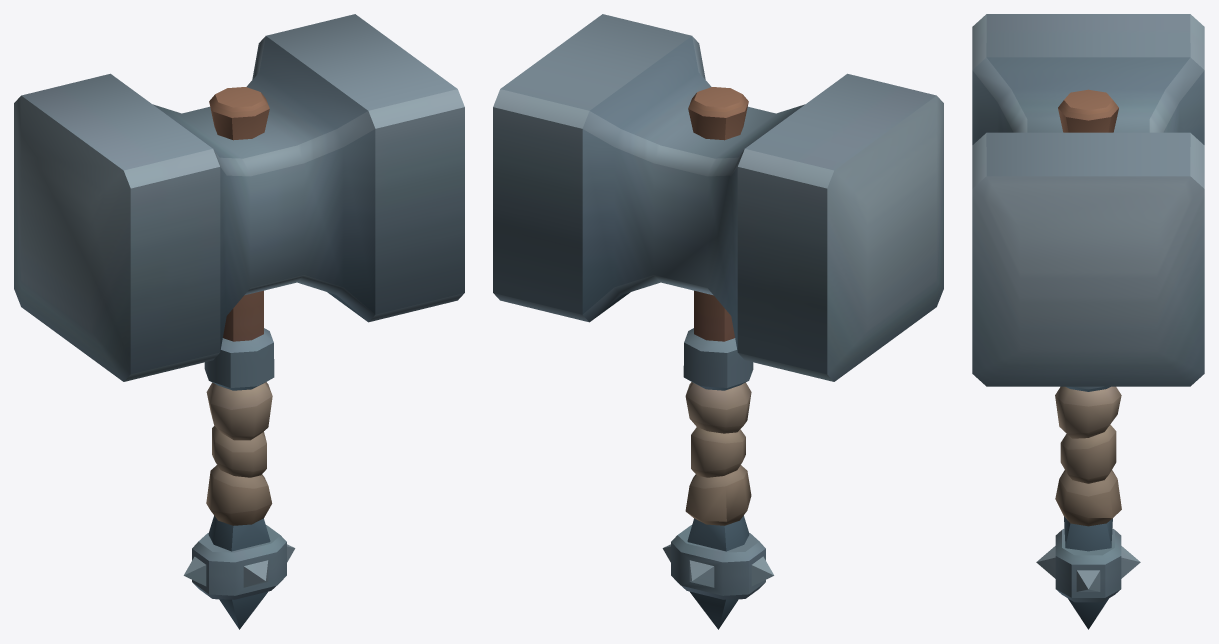
Rendered from hammer_a.99bf8e26.glb.
3 renders of one model, left to right at view 1: azimuth 30°, elevation 25°; view 2: azimuth 150°, elevation 25°; view 3: azimuth 270°, elevation 25°, orthographic.
Parts seen in each view (by area): view 1: hammer_A; view 2: hammer_A; view 3: hammer_A.
Part boxes in pixels (x1,y1,x2,y2): hammer_A: (14, 14, 464, 629); hammer_A: (493, 14, 943, 629); hammer_A: (972, 14, 1204, 629).
Size of the model in its own units: 0.8135 by 1.14 by 0.4481.
Materials: 1 (1 with a texture image).
